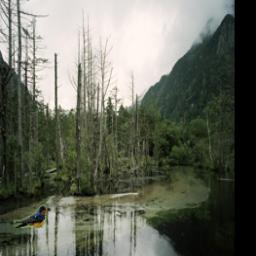Swallow: (14, 205, 47, 228)
